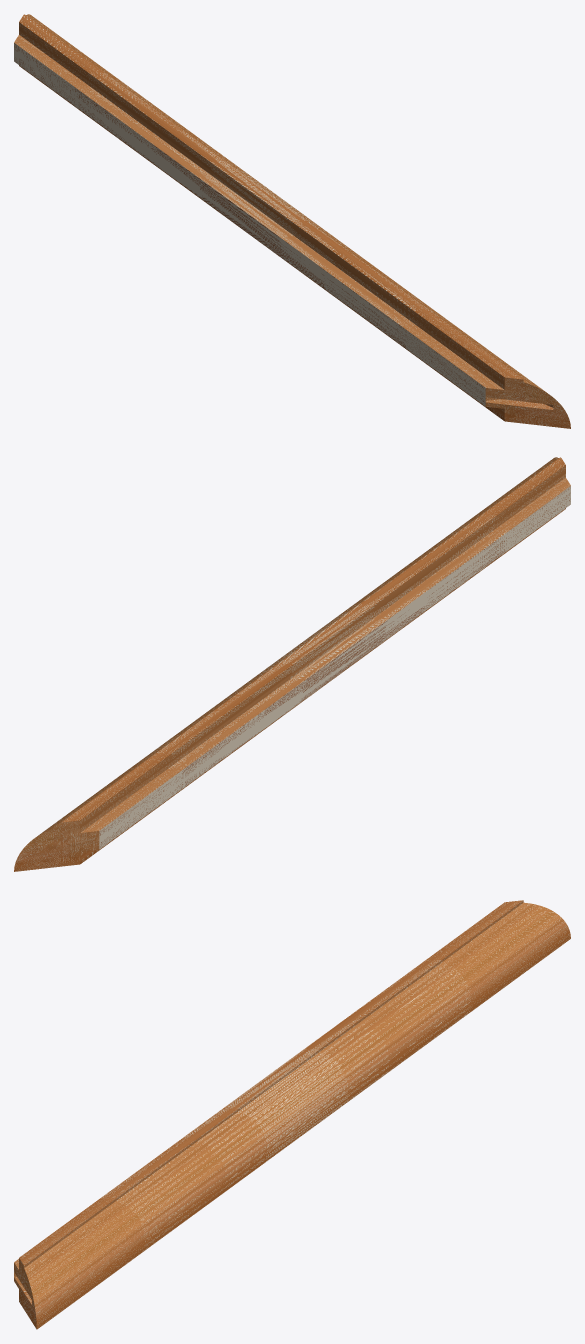
The model's file is original-21.obj.
3 views of the same model, one above another, from view 1: azimuth 30°, elevation 25°; view 2: azimuth 150°, elevation 25°; view 3: azimuth 330°, elevation 25° (orthographic).
Parts seen in each view (by area): view 1: Edge_short1/Edge_short/mesh21/mesh21-geometry#mesh21-geometry; view 2: Edge_short1/Edge_short/mesh21/mesh21-geometry#mesh21-geometry; view 3: Edge_short1/Edge_short/mesh21/mesh21-geometry#mesh21-geometry.
Boxes of the visible parts, x1,y1,x2,y2 form: Edge_short1/Edge_short/mesh21/mesh21-geometry#mesh21-geometry: (14,14,570,428); Edge_short1/Edge_short/mesh21/mesh21-geometry#mesh21-geometry: (14,457,570,871); Edge_short1/Edge_short/mesh21/mesh21-geometry#mesh21-geometry: (14,900,570,1329).
Bounding box in the file's own units: 0.0473 × 0.0368 × 0.8087.
